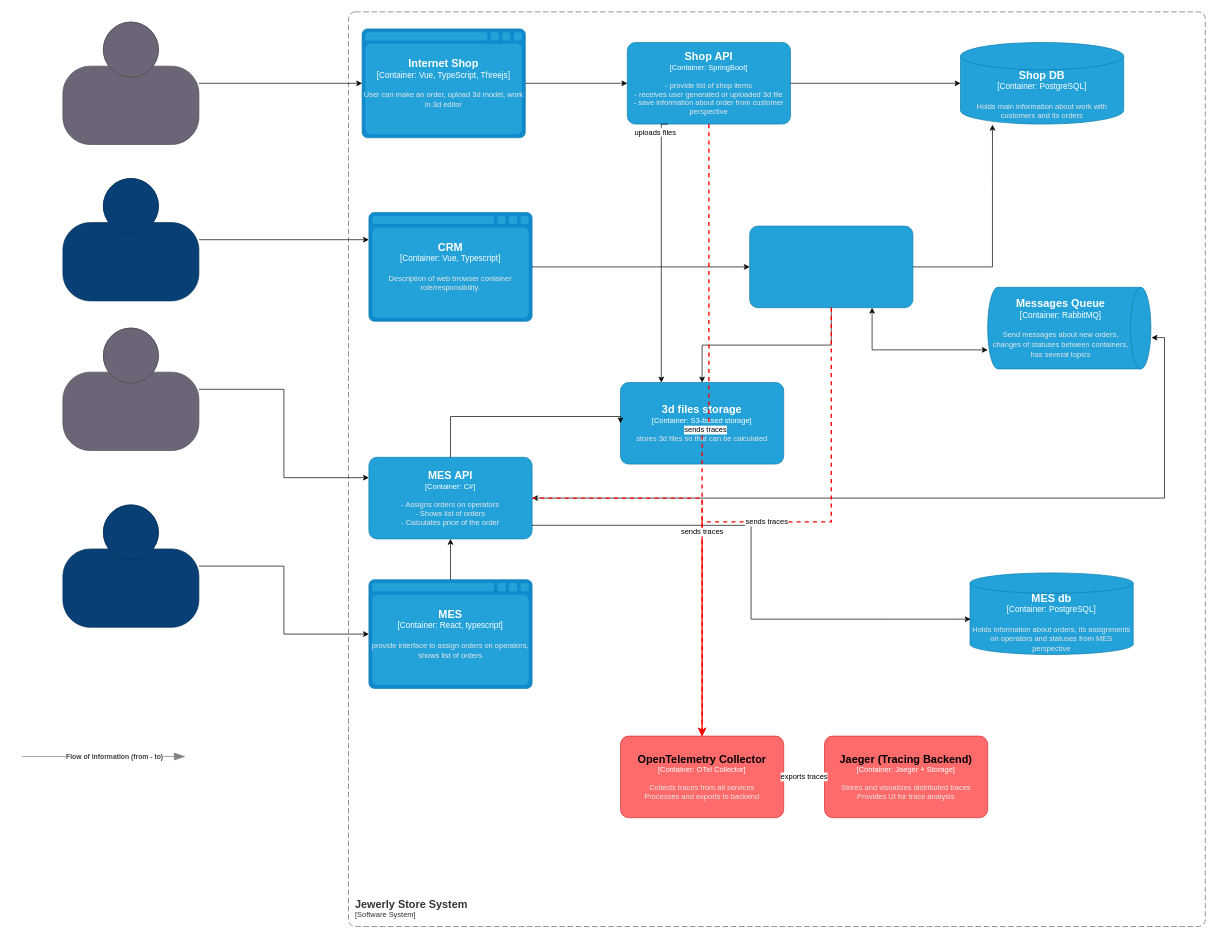
This 1217x938 diagram has some shape labels left out. The shapes that lost their labels are listed below. From the top down, each one's centre as x and y in pixels, then its label:
At (130,82): "Customer [Person] Description of external person.".
At (130,239): "Seller [Person] Operates with order, confirms manufacturing for the user".
At (831,266): "CRM API [Container: SpringBoot] Description of container role/responsibility.".
At (130,389): "API user [Person] Description of external person.".
At (130,565): "Operator [Person] Takes order in work, manufactures jewerly".
